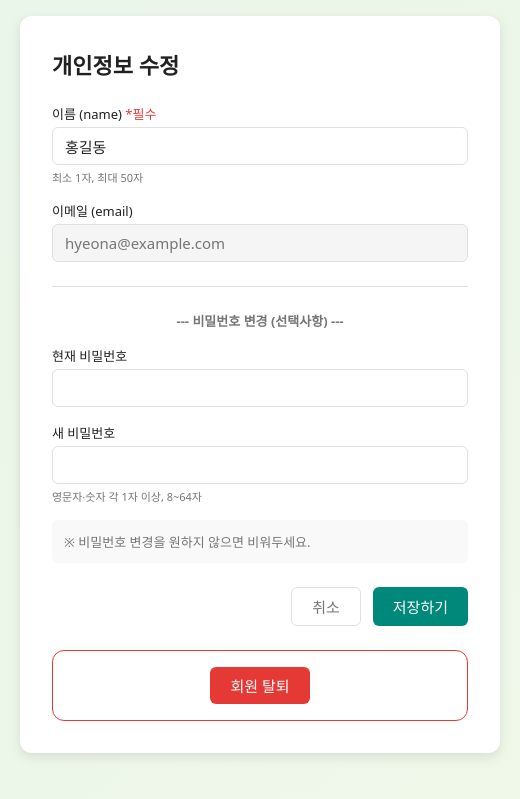
Test case: ProfilePage › 현재 비밀번호 없이 새 비밀번호만 입력하면 에러를 표시한다
Type "newpass1" into the password field labelled "새 비밀번호".
click(260, 465); type("newpass1")  # box [52, 446, 468, 484]
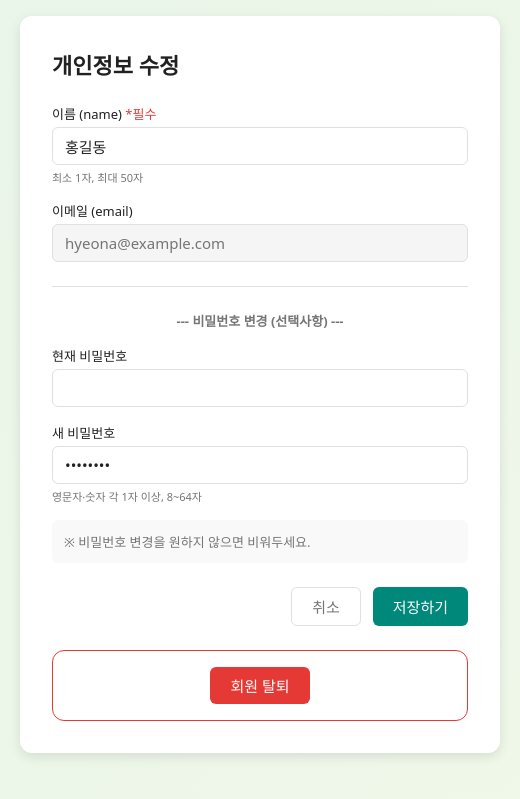
Click the button "저장하기".
click(420, 606)  # box [373, 587, 468, 626]
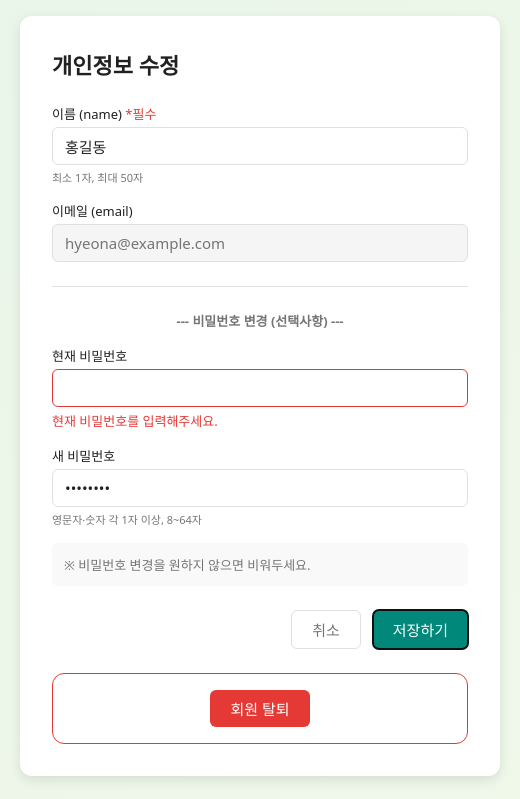
Check: the text "현재 비밀번호를 입력해주세요." is shown, box [52, 412, 218, 430]
